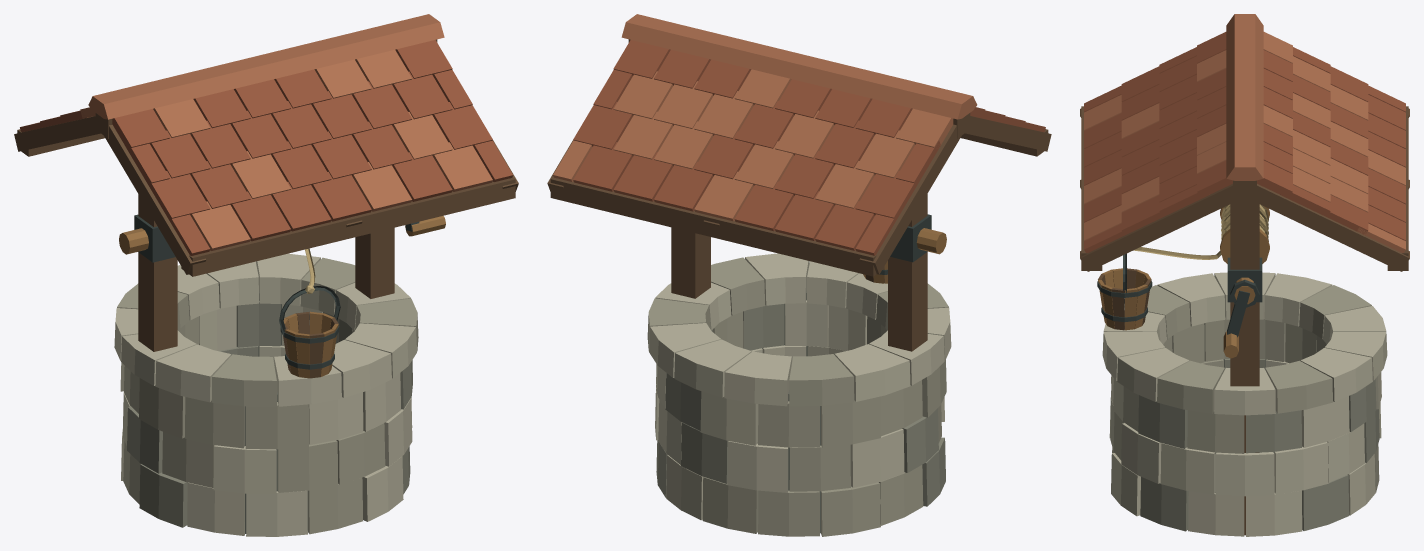
The model's file is sumur.glb.
The picture shows the model from 3 angles, left to right: view 1: azimuth 30°, elevation 25°; view 2: azimuth 150°, elevation 25°; view 3: azimuth 270°, elevation 25°; orthographic projection. The views are drawn at different scales.
Parts seen in each view (by area): view 1: stonewell.roof.front.roof, stonewell.coping.stone_light, stonewell.roof.front.roof_light, extrusion, stonewell.body.course_3.body, stonewell.body.course_1.stone_light, stonewell.coping.body, stonewell.body.course_2.body, stonewell.frame.eave_front, stonewell.body.course_3.stone_light, stonewell.body.course_2.stone_light, stonewell.frame.timber (+10 smaller); view 2: stonewell.roof.back.roof, stonewell.roof.back.roof_light, stonewell.coping.stone_light, stonewell.body.course_1.body, extrusion, stonewell.body.course_3.body, stonewell.coping.body, stonewell.body.course_2.stone_light, stonewell.frame.eave_back, stonewell.body.course_3.stone_light, stonewell.frame.timber, stonewell.posts.left (+9 smaller); view 3: stonewell.roof.front.roof, stonewell.coping.stone_light, stonewell.roof.back.roof, stonewell.body.course_2.stone_light, stonewell.roof.back.roof_light, stonewell.coping.body, stonewell.body.course_1.stone_light, stonewell.body.course_3.body, extrusion, stonewell.frame.timber, stonewell.roof.front.roof_light, stonewell.body.course_3.stone_dark (+14 smaller).
Part boxes in pixels (bbox=[...]): stonewell.roof.front.roof: bbox=[112, 40, 512, 255]; stonewell.coping.stone_light: bbox=[114, 253, 416, 406]; stonewell.roof.front.roof_light: bbox=[153, 49, 492, 250]; extrusion: bbox=[88, 14, 444, 119]; stonewell.body.course_3.body: bbox=[120, 316, 354, 449]; stonewell.body.course_1.stone_light: bbox=[187, 456, 403, 536]; stonewell.coping.body: bbox=[117, 257, 418, 406]; stonewell.body.course_2.body: bbox=[162, 423, 385, 492]; stonewell.frame.eave_front: bbox=[181, 177, 515, 276]; stonewell.body.course_3.stone_light: bbox=[199, 304, 400, 444]; stonewell.body.course_2.stone_light: bbox=[122, 345, 412, 494]; stonewell.frame.timber: bbox=[14, 116, 518, 274]; stonewell.roof.back.roof: bbox=[573, 40, 940, 255]; stonewell.roof.back.roof_light: bbox=[553, 69, 953, 221]; stonewell.coping.stone_light: bbox=[649, 253, 951, 406]; stonewell.body.course_1.body: bbox=[702, 465, 923, 536]; extrusion: bbox=[621, 14, 977, 119]; stonewell.body.course_3.body: bbox=[713, 311, 946, 447]; stonewell.coping.body: bbox=[647, 257, 948, 406]; stonewell.body.course_2.stone_light: bbox=[655, 345, 944, 492]; stonewell.frame.eave_back: bbox=[550, 177, 884, 276]; stonewell.body.course_3.stone_light: bbox=[656, 300, 867, 445]; stonewell.frame.timber: bbox=[547, 116, 1051, 274]; stonewell.posts.left: bbox=[888, 194, 927, 351]; stonewell.roof.front.roof: bbox=[1084, 32, 1232, 252]; stonewell.coping.stone_light: bbox=[1102, 272, 1387, 415]; stonewell.roof.back.roof: bbox=[1257, 47, 1405, 240]; stonewell.body.course_2.stone_light: bbox=[1121, 359, 1381, 496]; stonewell.roof.back.roof_light: bbox=[1263, 32, 1405, 252]; stonewell.coping.body: bbox=[1124, 285, 1371, 413]; stonewell.body.course_1.stone_light: bbox=[1111, 453, 1375, 536]; stonewell.body.course_3.body: bbox=[1111, 318, 1326, 453]; extrusion: bbox=[1226, 14, 1263, 180]; stonewell.frame.timber: bbox=[1080, 108, 1409, 271]; stonewell.roof.front.roof_light: bbox=[1084, 50, 1226, 240]; stonewell.body.course_3.stone_dark: bbox=[1138, 379, 1376, 453].
Size of the model in its own units: 2.25 by 2.67 by 2.05.
